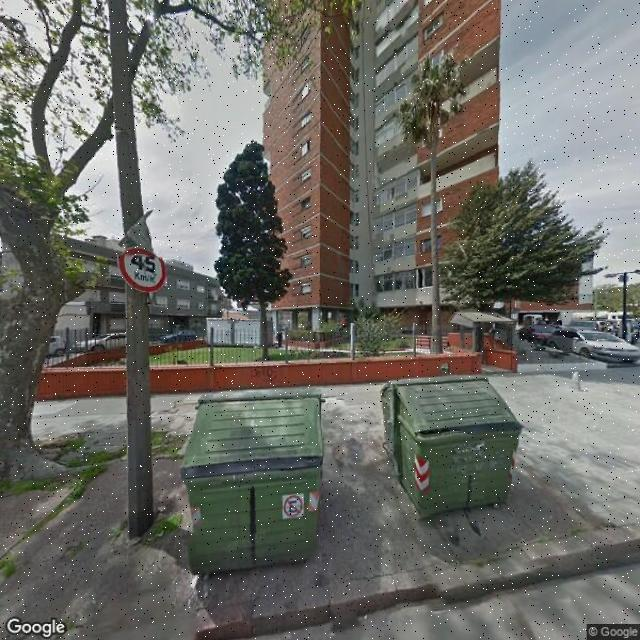garbage container: (173, 383, 336, 581), (374, 368, 535, 535)
